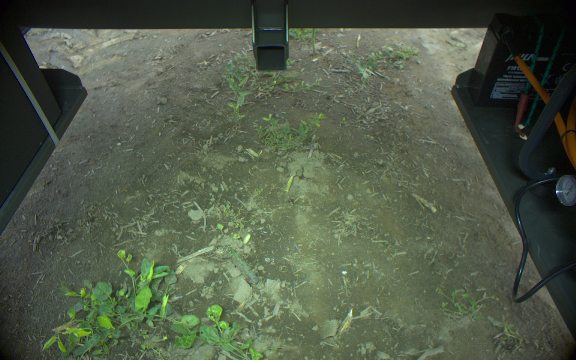aspa: (225, 246, 260, 284)
